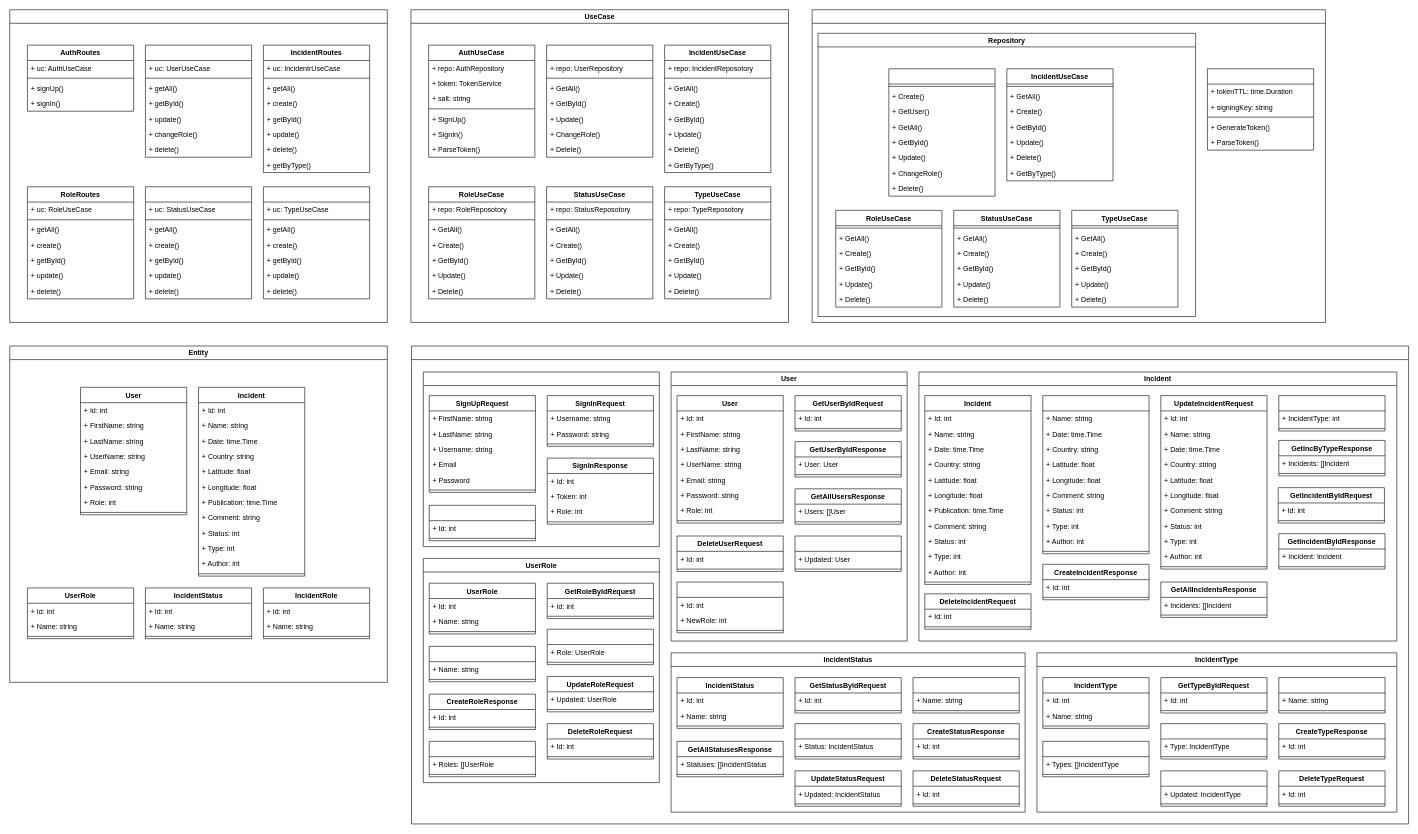
Some shapes in this 1418 by 834 pixel diagram are drawn without their labels. The box of each missing label's shape, as (x1, y1, x2, y2) in pixels:
Auth: (423, 371, 659, 547)
ChangeRoleRequest: (676, 581, 783, 633)
Controller: (9, 9, 387, 322)
CreateIncidentRequest: (1042, 395, 1149, 554)
CreateRoleRequest: (429, 646, 535, 682)
CreateStatusRequest: (912, 677, 1019, 713)
CreateTypeRequest: (1278, 677, 1385, 713)
DTO: (411, 345, 1409, 824)
GetAllRolesResponse: (429, 741, 535, 777)
GetAllTypeResponse: (1042, 741, 1149, 777)
GetIncByTypeRequest: (1278, 395, 1385, 431)
GetRoleByIdResponse: (547, 629, 653, 665)
GetStatusByIdResponse: (794, 723, 901, 759)
GetTypeByIdResponse: (1160, 723, 1267, 759)
Infrastructure: (812, 9, 1325, 322)
SignUpResponse: (429, 505, 535, 541)
StatusRoutes: (145, 186, 252, 299)
TokenService: (1207, 68, 1314, 150)
TypeRoutes: (263, 186, 370, 299)
UpdateTypeRequest: (1160, 770, 1267, 806)
UpdateUserRequest: (794, 535, 901, 571)
UserRepository: (888, 68, 995, 196)
UserRoutes: (145, 45, 252, 157)
UserUseCase: (546, 45, 653, 157)
